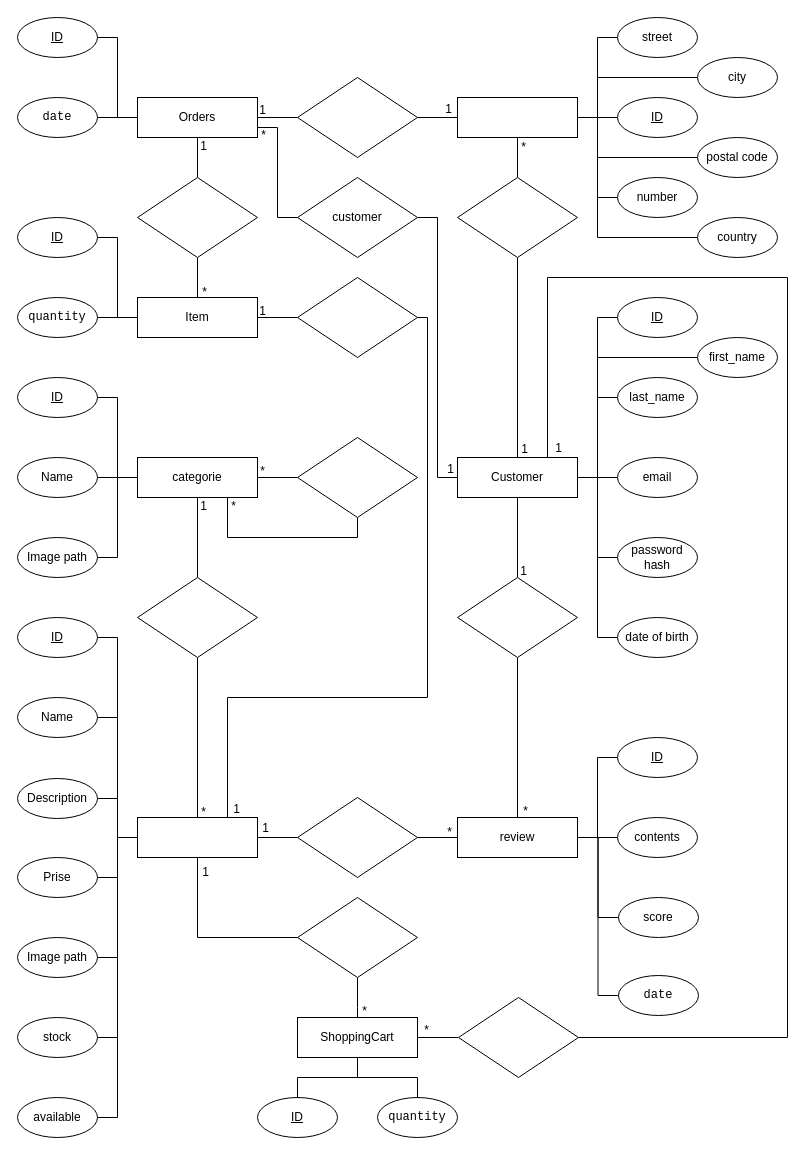
Image size: 806x1155. Some labels were removed from this diagram. The shapes that lost their labels are listed below. From the top down, each one's box as (x1, y1, x2, y2) in pixels, then its label:
(296, 76, 418, 158): destination
(456, 96, 578, 138): Address
(136, 176, 258, 258): includes
(456, 176, 578, 258): addresses
(296, 276, 418, 358): is
(296, 436, 418, 518): subcatergories
(136, 576, 258, 658): product categorie
(456, 576, 578, 658): author
(136, 816, 258, 858): Product
(296, 796, 418, 878): reviews
(296, 896, 418, 978): ShoppingCard Product
(458, 996, 578, 1078): ShoppingCart Products
